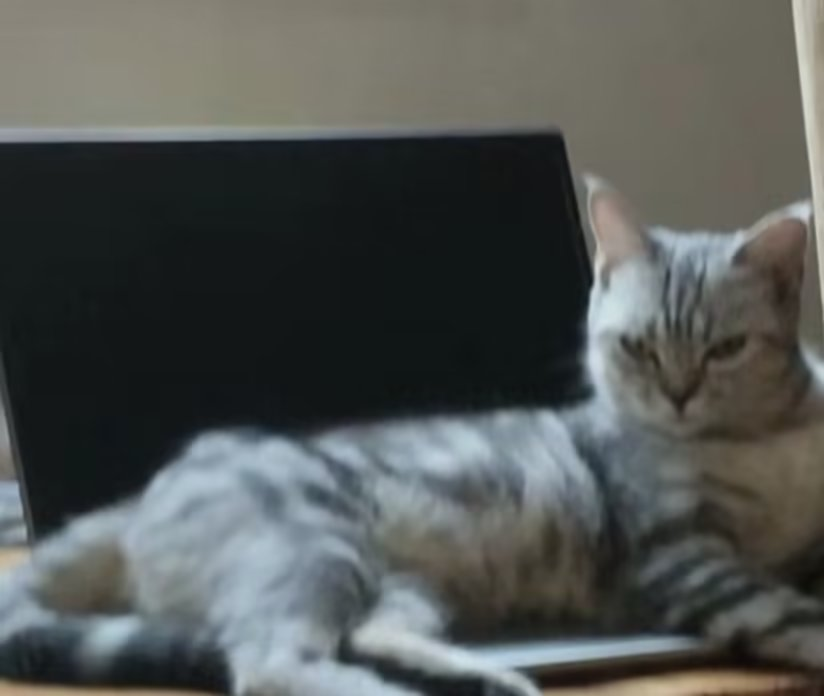white: (20, 172, 824, 691)
